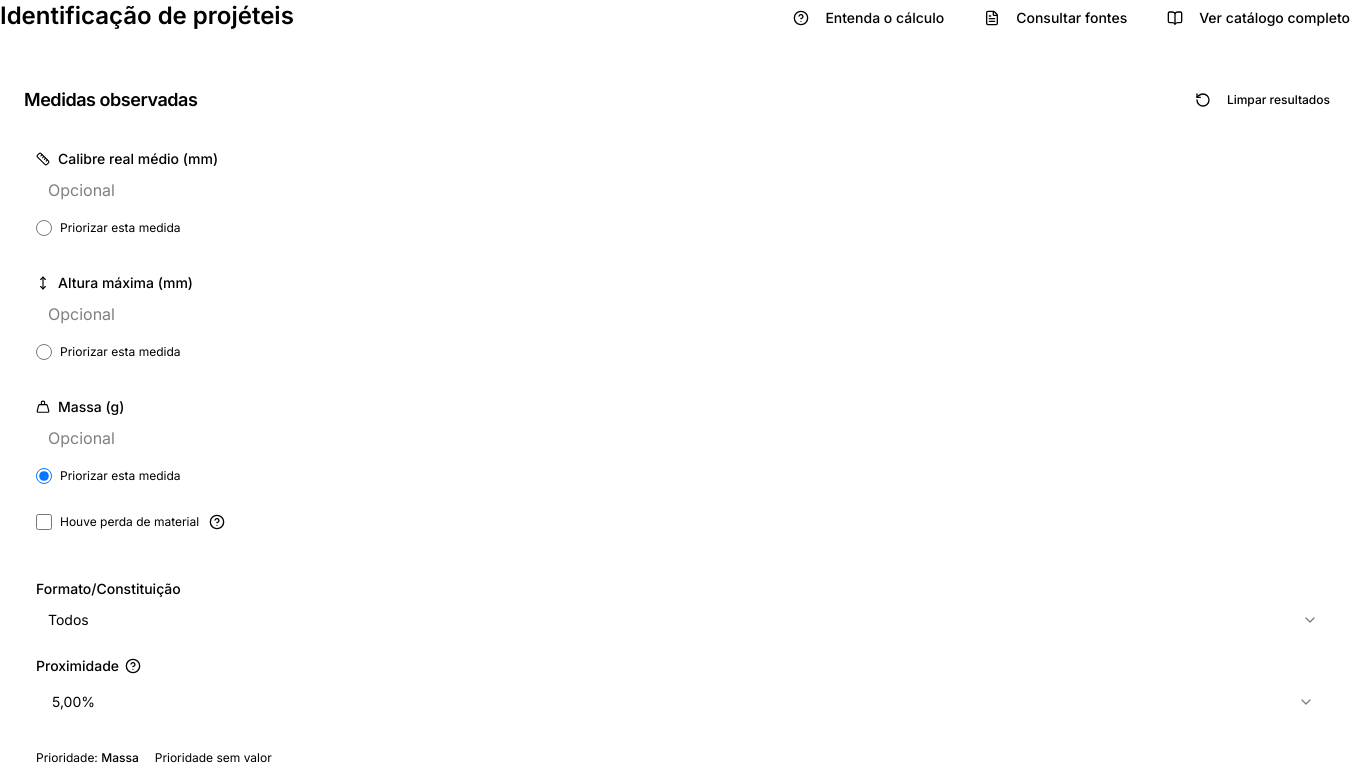
Scenario: página de projéteis › agrupa formato e proximidade abaixo das medidas e apresenta a ajuda renomeada
Expected: the dropdown named "Formato/Constituição" is shown, top-left (36, 600), bottom-right (1330, 640)
Expected: the button named "Proximidade: 5,00%" is shown, top-left (36, 682), bottom-right (1330, 722)
What coordinates should you click on to do the following:
click the button "Entenda o cálculo"
I would click on:
 (869, 18)
Its box is top-left (777, 0), bottom-right (960, 36).
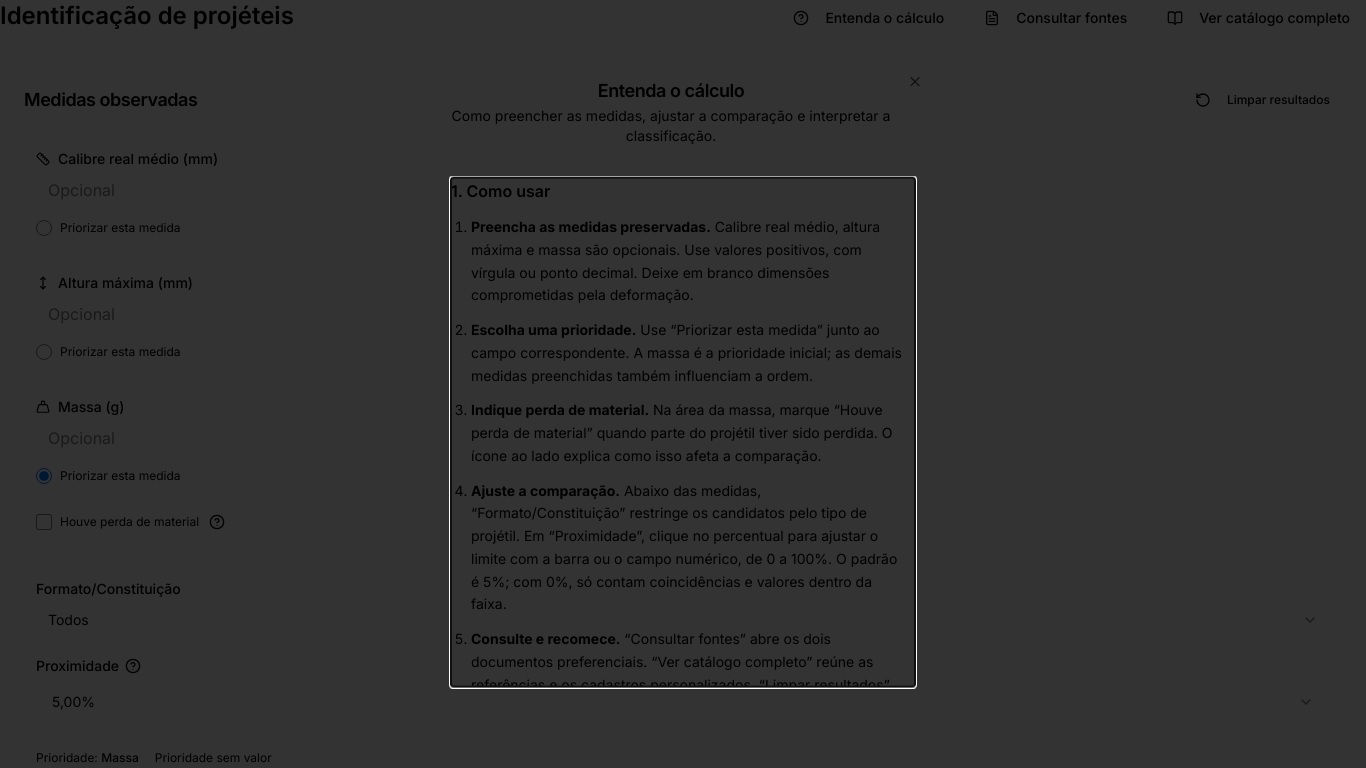
Expected: the text "Ajuste a comparação." is shown, top-left (471, 481), bottom-right (620, 498)
Expected: the list item "clique no percentual para ajustar o limite" is shown, top-left (471, 481), bottom-right (897, 612)
